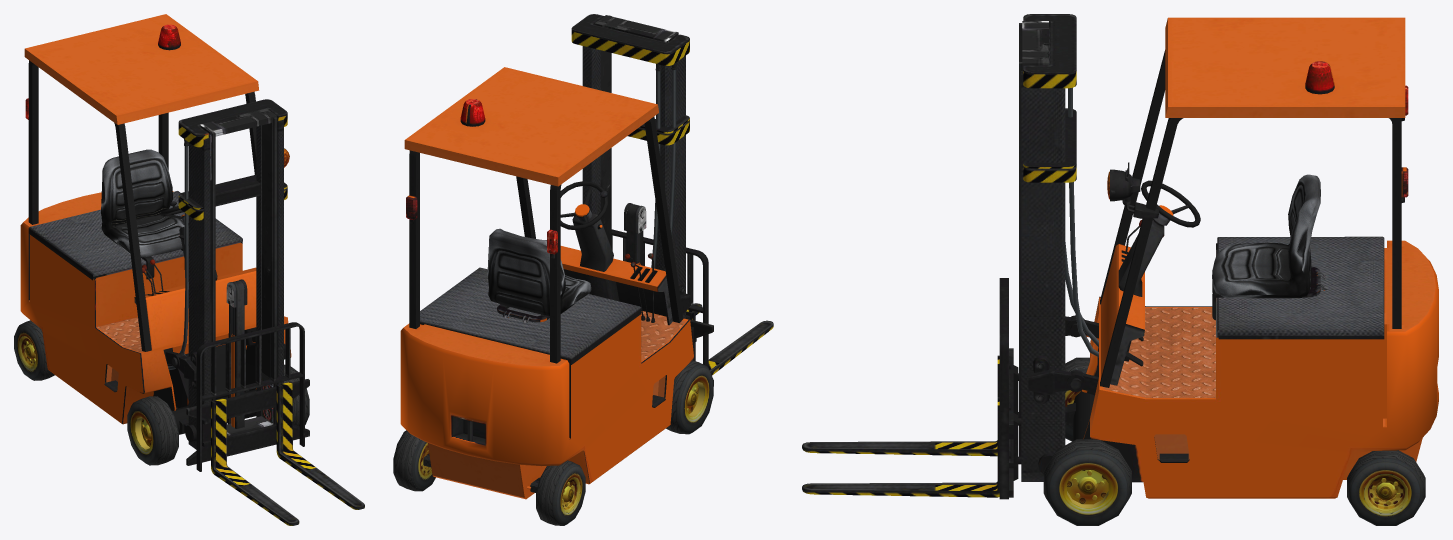
The model's file is Forklift01.glb.
The picture shows the model from 3 angles, left to right: view 1: azimuth 30°, elevation 25°; view 2: azimuth 150°, elevation 25°; view 3: azimuth 270°, elevation 25°; orthographic projection. The views are drawn at different scales.
Parts seen in each view (by area): view 1: Forklift01, Forklift_wheel1, Forklift_wheels, Forklift_wheel2; view 2: Forklift01, Forklift_wheels, Forklift_wheel1; view 3: Forklift01, Forklift_wheel2, Forklift_wheels.
Part boxes in pixels (x1,y1,x2,y2): Forklift01: (20,14,364,525); Forklift_wheel1: (127,396,178,465); Forklift_wheels: (14,320,54,380); Forklift_wheel2: (284,364,309,426); Forklift01: (400,14,773,499); Forklift_wheels: (393,430,585,525); Forklift_wheel1: (666,360,713,434); Forklift01: (802,14,1438,499); Forklift_wheel2: (1043,439,1131,525); Forklift_wheels: (1347,450,1425,525).
Size of the model in its own units: 1.14 by 2.37 by 3.09.
4 materials, 4 textured.
